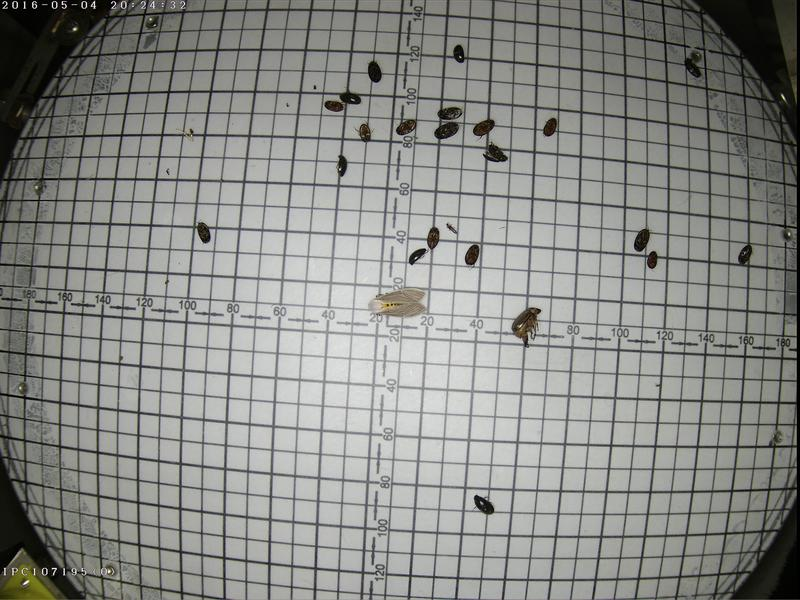Anomala corpulenta: (508, 305, 543, 347)
